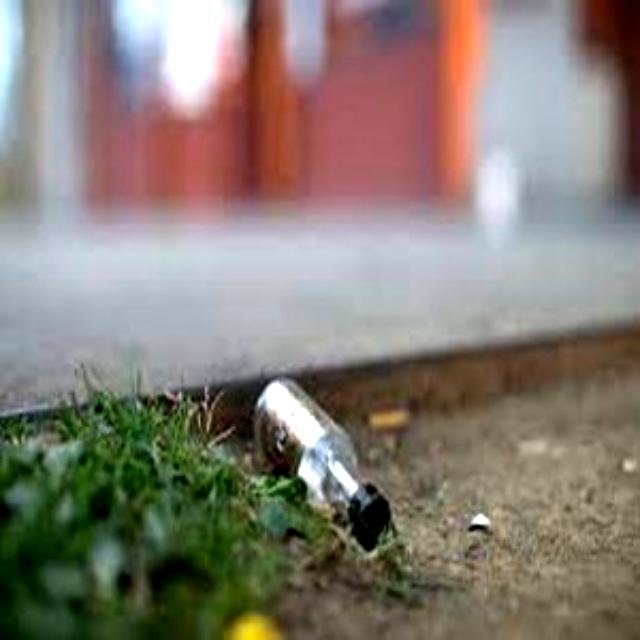Plastic: (252, 374, 390, 550)
